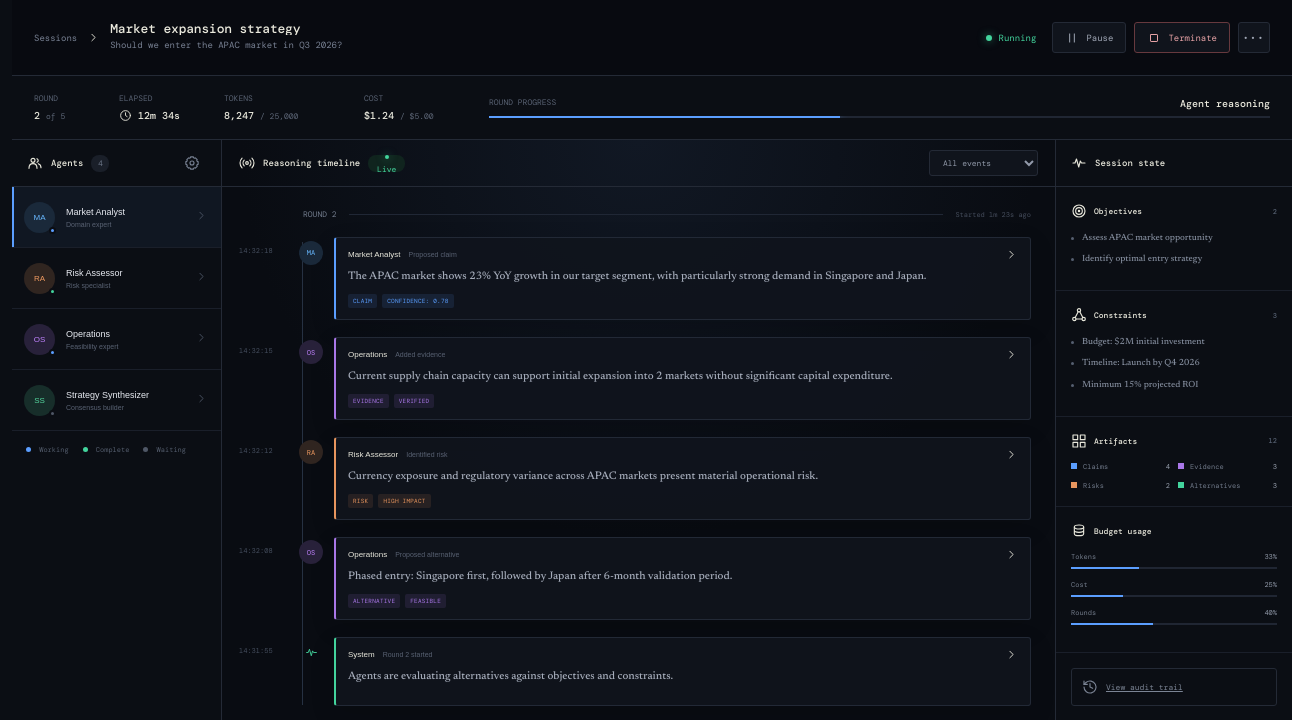
it: ReasoningPage live console › filters and expands timeline evidence
Select "Risk" in the dropdown named "Filter timeline": (984,163) [929,150,1038,176]
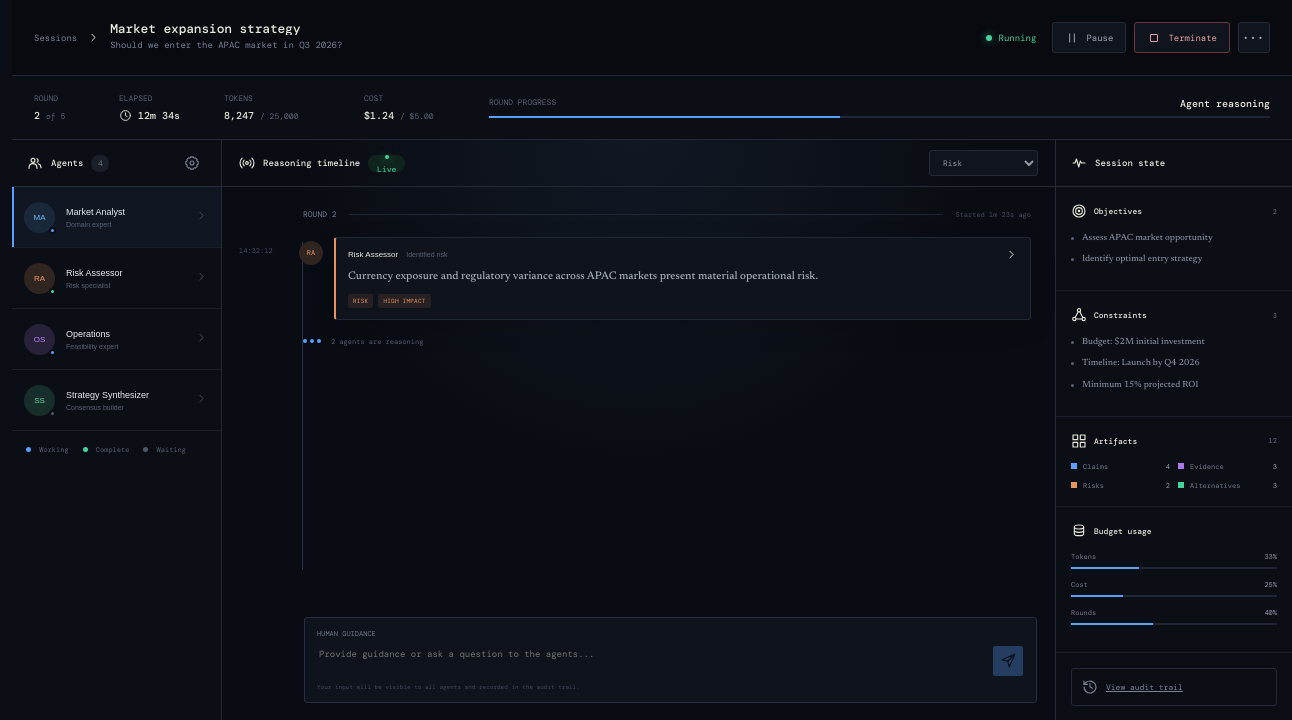
Check: the text "Identified risk" is shown, box [406,251,448,258]
Check: the button "Proposed claim" is gone
Click the button "Risk Assessor Identified risk": (373,254) [348,248,1018,261]
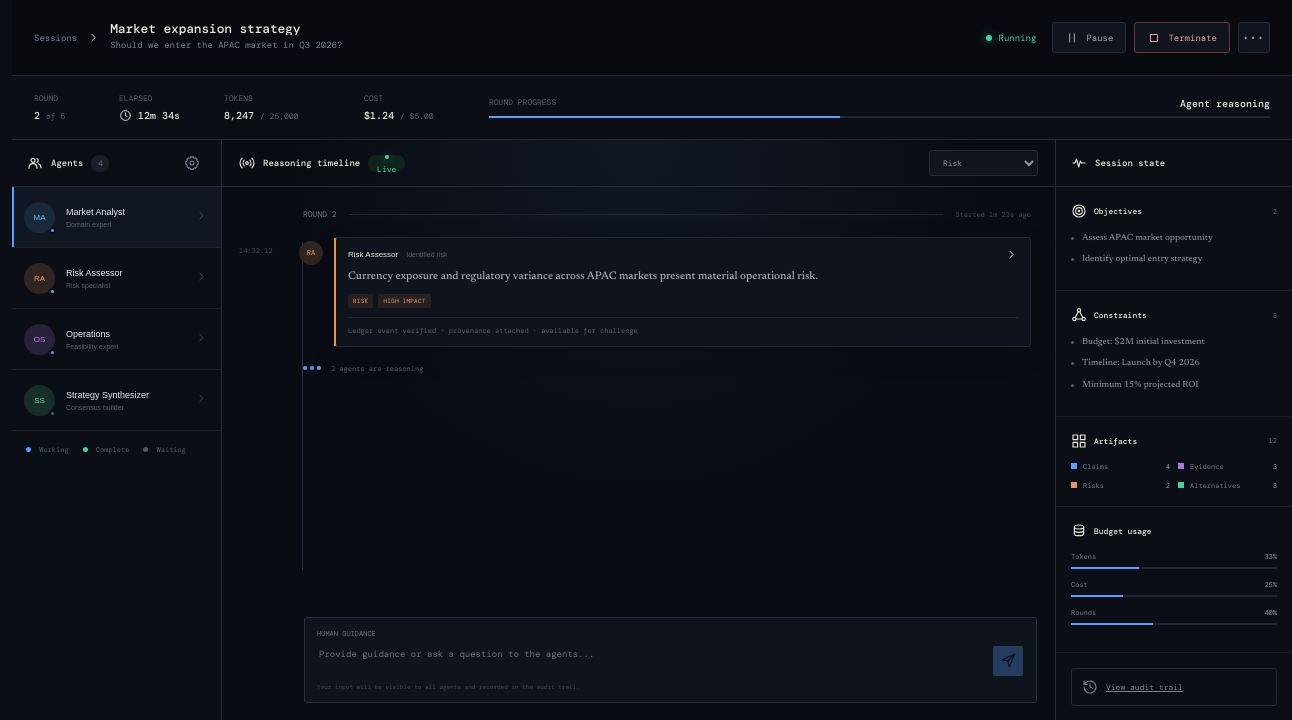
Check: the text "Ledger event verified" is shown, box [348,326,638,335]
